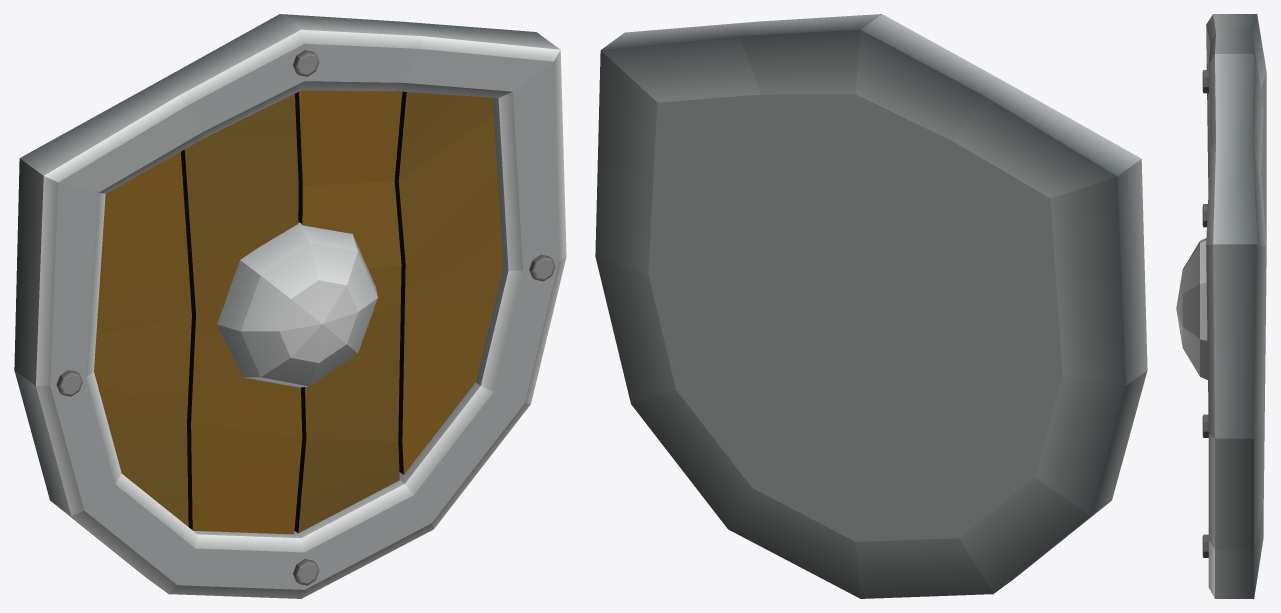
Rendered from shield_5.glb.
3 renders of one model, left to right at view 1: azimuth 30°, elevation 25°; view 2: azimuth 150°, elevation 25°; view 3: azimuth 270°, elevation 25°, orthographic. The views are drawn at different scales.
Parts seen in each view (by area): view 1: shield_5; view 2: shield_5; view 3: shield_5.
Part boxes in pixels (x1,y1,x2,y2): shield_5: (14, 14, 566, 598); shield_5: (595, 14, 1147, 598); shield_5: (1176, 14, 1266, 598).
Bounding box in the file's own units: 0.5055 × 0.5182 × 0.0817.
1 material, 1 textured.
